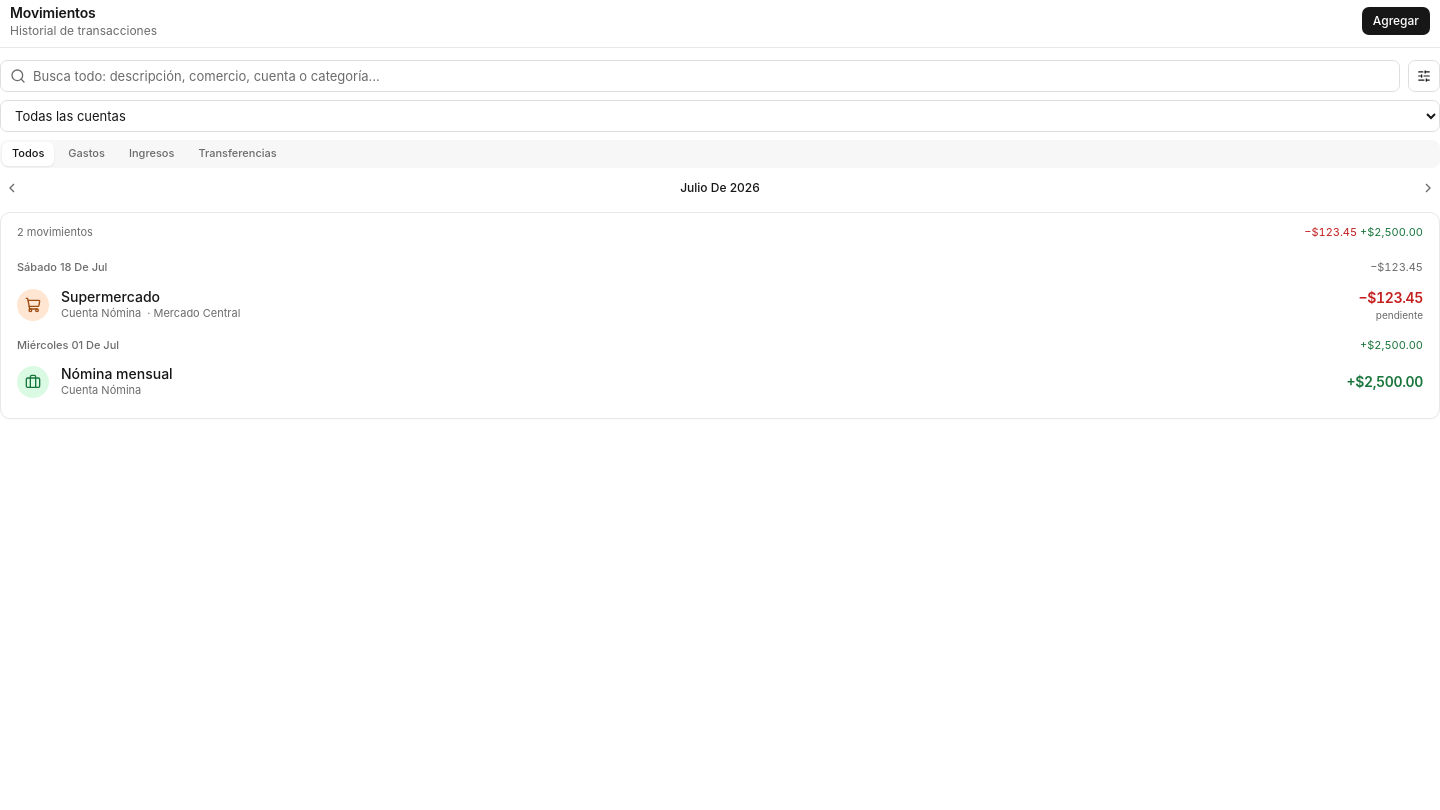
Test case: TransactionsPage › lets the generic add button switch between expense, income, and transfer
Click the button "Agregar" at (1396, 20), box [1362,6,1430,34]
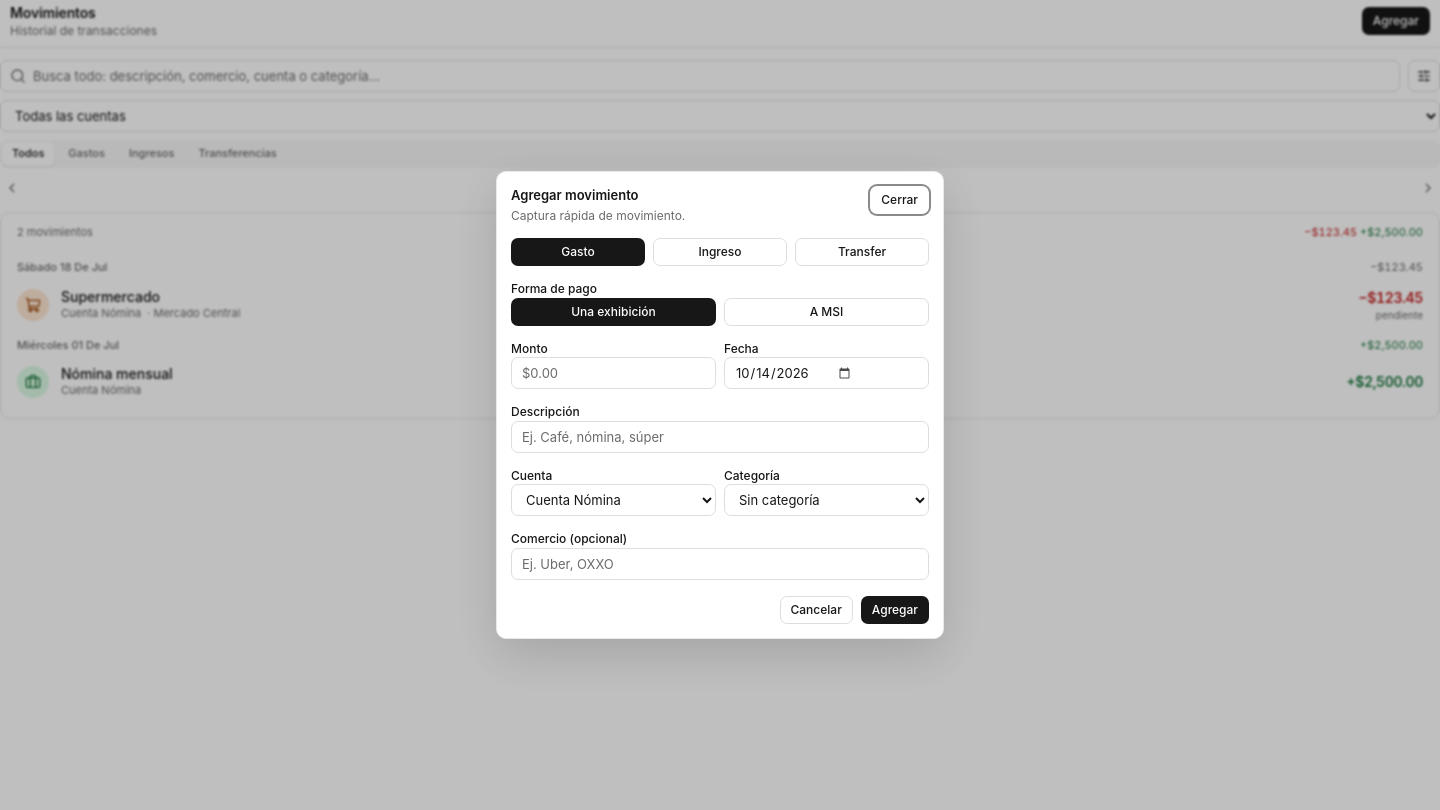
Now the dropdown labelled "Categoría" is shown, box [724,484,929,516]
Click the button "Ingreso" at (720, 252), box [653,238,787,266]
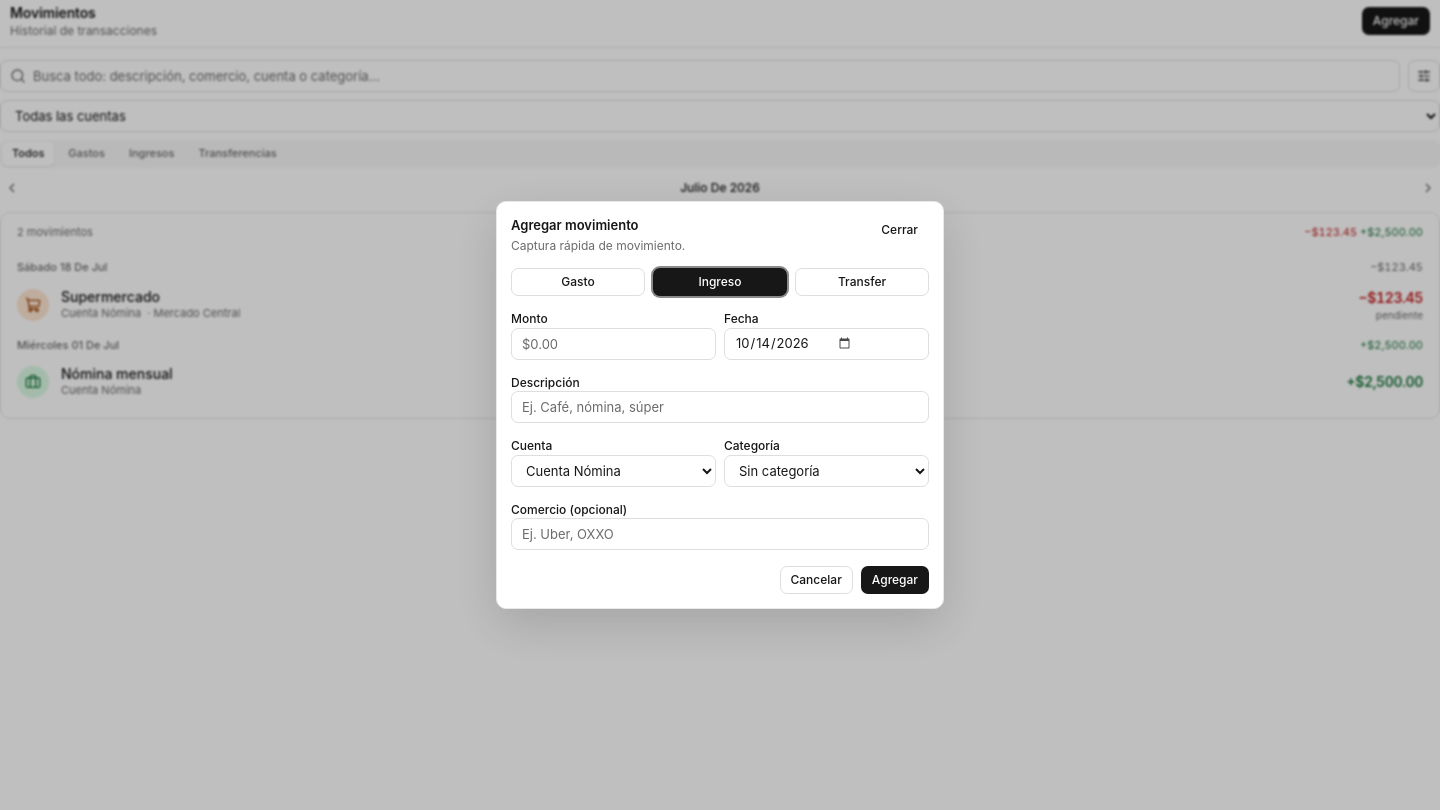
Now the dropdown labelled "Categoría" is shown, box [724,455,929,487]
Click the button "Transfer" at (862, 282), box [795,268,929,296]
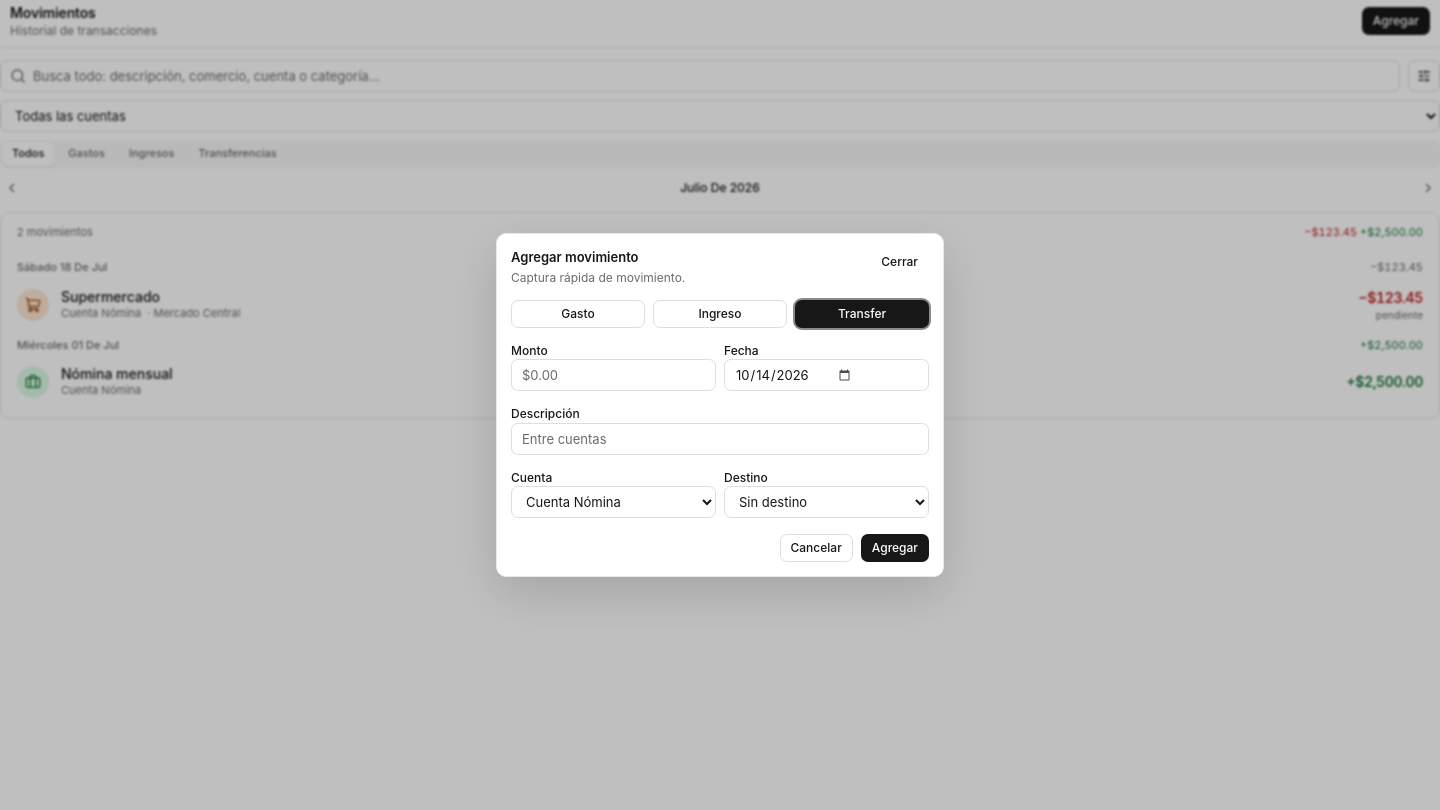
Now the dropdown labelled "Destino" is shown, box [724,486,929,518]
Now the label labelled "Comercio (opcional)" is gone
